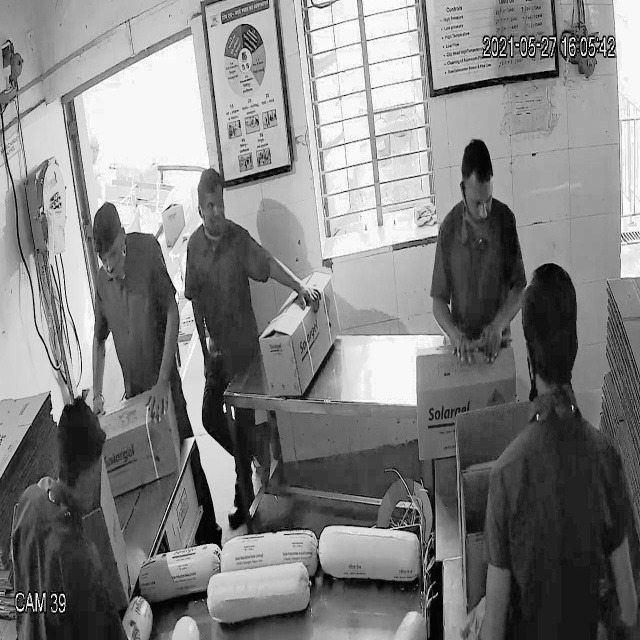Sin_gafas: (94, 238, 127, 273), (461, 187, 498, 216), (197, 190, 230, 221)
